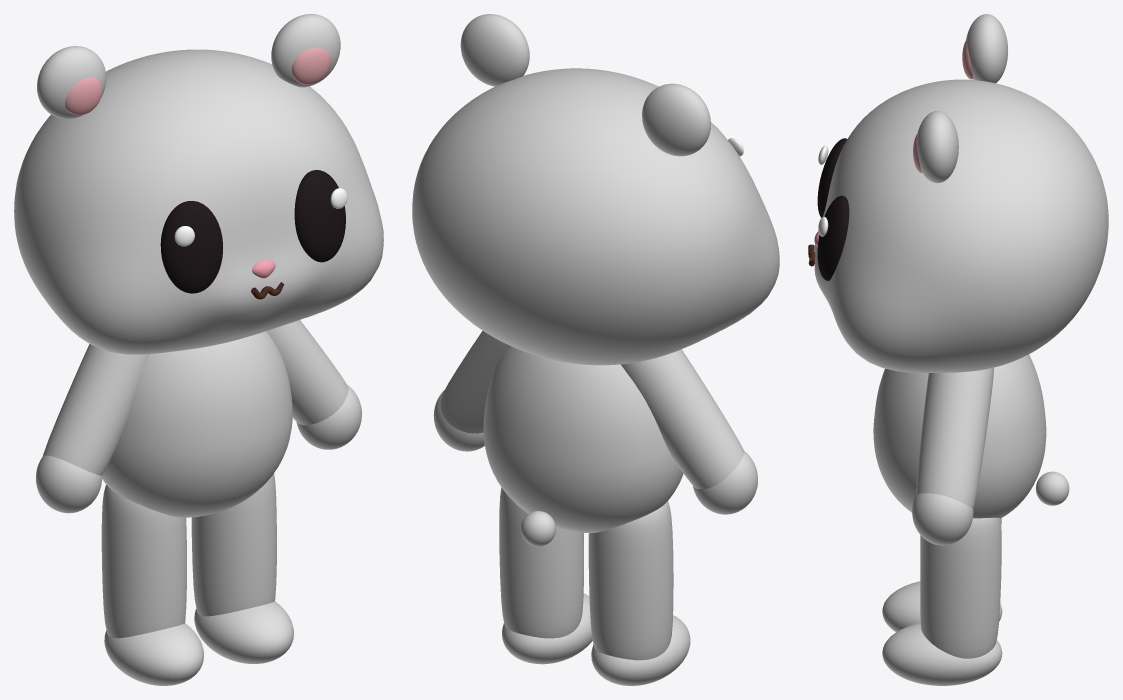
The model's file is villager_hamster.glb.
3 views of the same model, side by side, from view 1: azimuth 30°, elevation 25°; view 2: azimuth 150°, elevation 25°; view 3: azimuth 270°, elevation 25° (orthographic). The views are drawn at different scales.
Visible parts, largest first — view 1: head, torso, legL, legR, armL, armR, eyeL, eyeR, earL, earR, earInR, earInL; view 2: head, torso, legL, legR, armL, armR, earL, earR, tail; view 3: head, torso, legR, armR, earR, earL, eyeR, legL, tail, eyeL.
Part boxes in pixels (box(x1,y1,x2,y2)): head: box(14, 49, 383, 354); torso: box(102, 331, 292, 517); legL: box(101, 485, 203, 685); legR: box(191, 473, 293, 663); armL: box(36, 344, 149, 513); armR: box(266, 320, 361, 449); eyeL: box(160, 201, 222, 293); eyeR: box(294, 170, 345, 262); earL: box(37, 46, 106, 119); earR: box(271, 14, 340, 87); earInR: box(292, 48, 331, 84); earInL: box(65, 77, 102, 115); head: box(412, 68, 779, 365); torso: box(483, 346, 683, 533); legL: box(588, 501, 690, 685); legR: box(499, 487, 592, 664); armL: box(621, 349, 757, 514); armR: box(433, 330, 510, 451); earL: box(642, 83, 710, 156); earR: box(460, 14, 529, 86); tail: box(520, 511, 555, 546); head: box(814, 79, 1108, 372); torso: box(873, 354, 1046, 518); legR: box(882, 517, 1002, 685); armR: box(912, 367, 993, 545); earR: box(916, 111, 958, 183); earL: box(966, 14, 1008, 83); eyeR: box(817, 195, 849, 280); legL: box(882, 518, 1002, 632); tail: box(1035, 471, 1069, 505); eyeL: box(817, 138, 847, 217).
Size of what is drawn, in the model's own units: 0.7068 by 1.33 by 0.6104.
